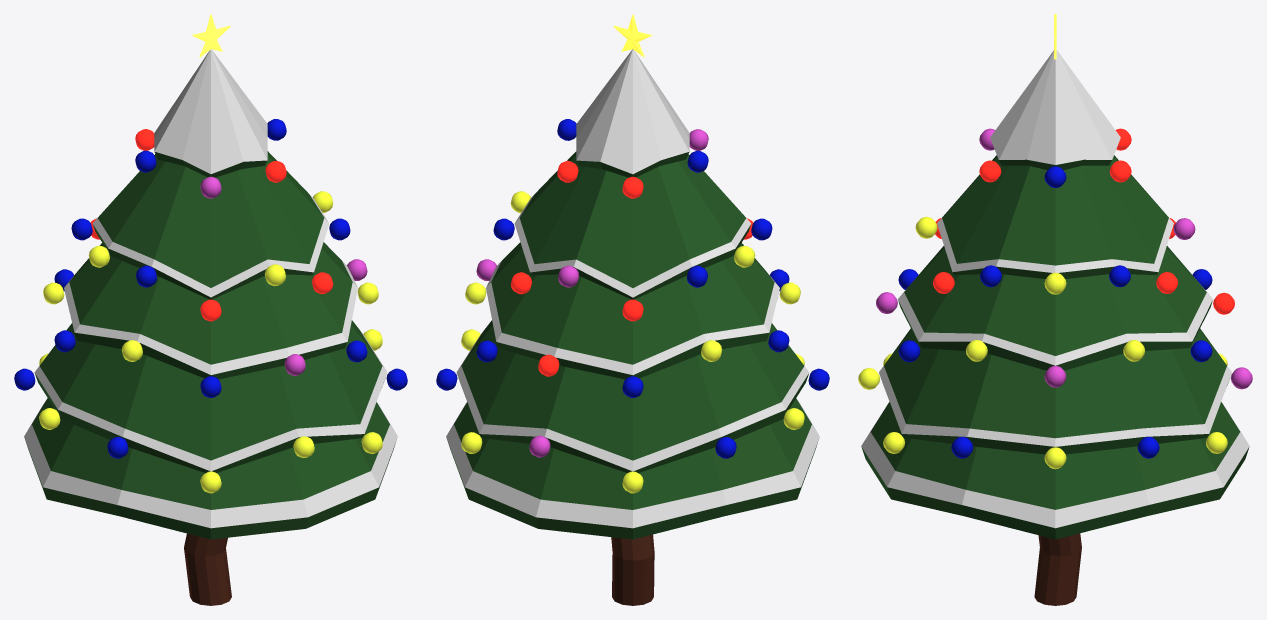
Rendered from елка_1.fbx.
3 views of the same model, side by side, from view 1: azimuth 30°, elevation 25°; view 2: azimuth 150°, elevation 25°; view 3: azimuth 270°, elevation 25° (orthographic).
Visible parts, largest first — view 1: елка_2.001; view 2: елка_2.001; view 3: елка_2.001.
Part boxes in pixels (left/top/right/bottom): елка_2.001: left=14, top=14, right=407, bottom=605; елка_2.001: left=436, top=14, right=829, bottom=605; елка_2.001: left=858, top=14, right=1252, bottom=605.
Size of the model in its own units: 194 by 316 by 194.
